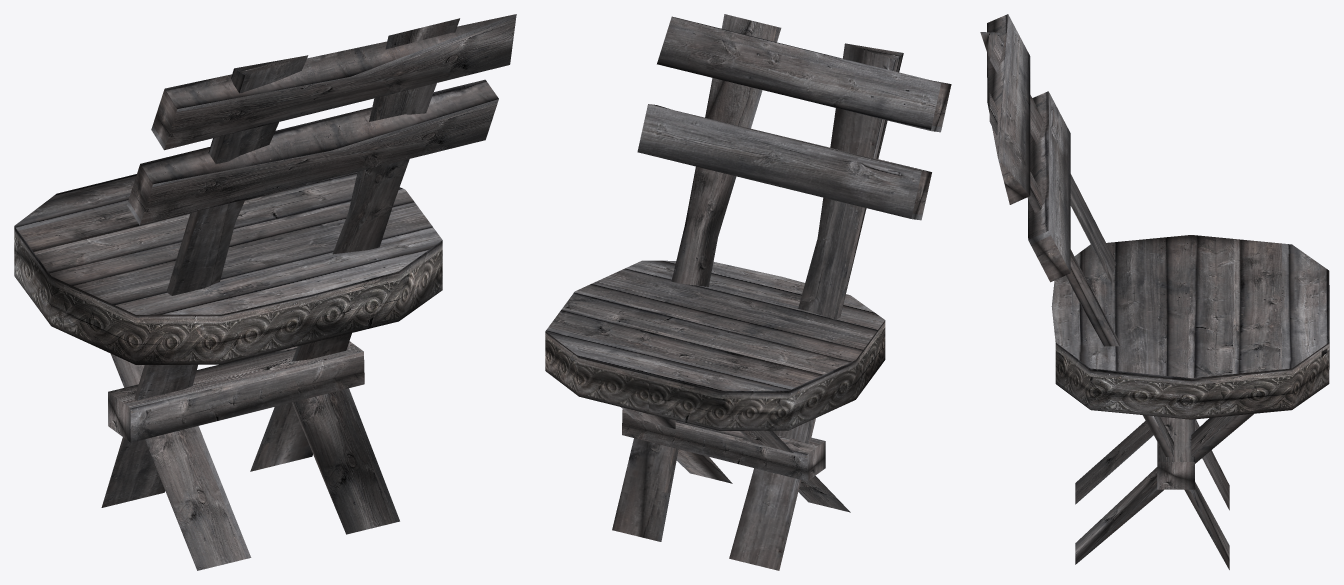
File: tavern_chair_LOD.fbx
The picture shows the model from 3 angles, left to right: view 1: azimuth 30°, elevation 25°; view 2: azimuth 150°, elevation 25°; view 3: azimuth 270°, elevation 25°; orthographic projection. The views are drawn at different scales.
Visible parts, largest first — view 1: Default_Layer; view 2: Default_Layer; view 3: Default_Layer.
Part boxes in pixels (x1,y1,x2,y2): Default_Layer: [14, 14, 516, 570]; Default_Layer: [545, 14, 951, 570]; Default_Layer: [980, 14, 1329, 569].
Bounding box in the file's own units: 112 × 165 × 116.
1 material, 1 textured.
